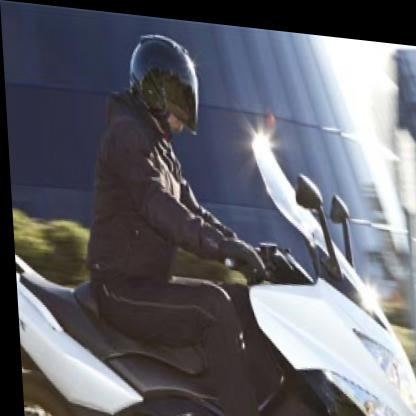With Helmet: (120, 26, 206, 138)
